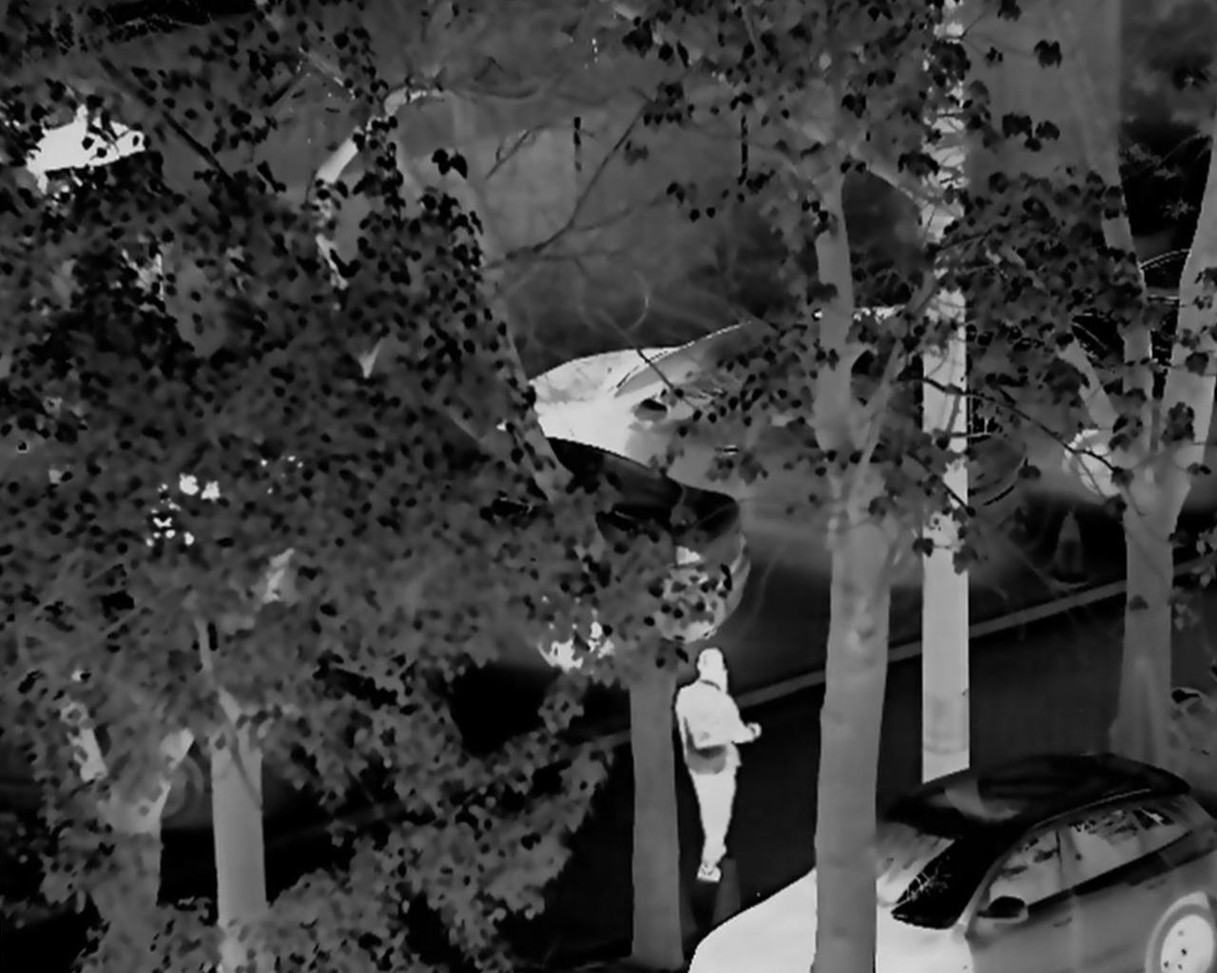person: (672, 643, 767, 897)
